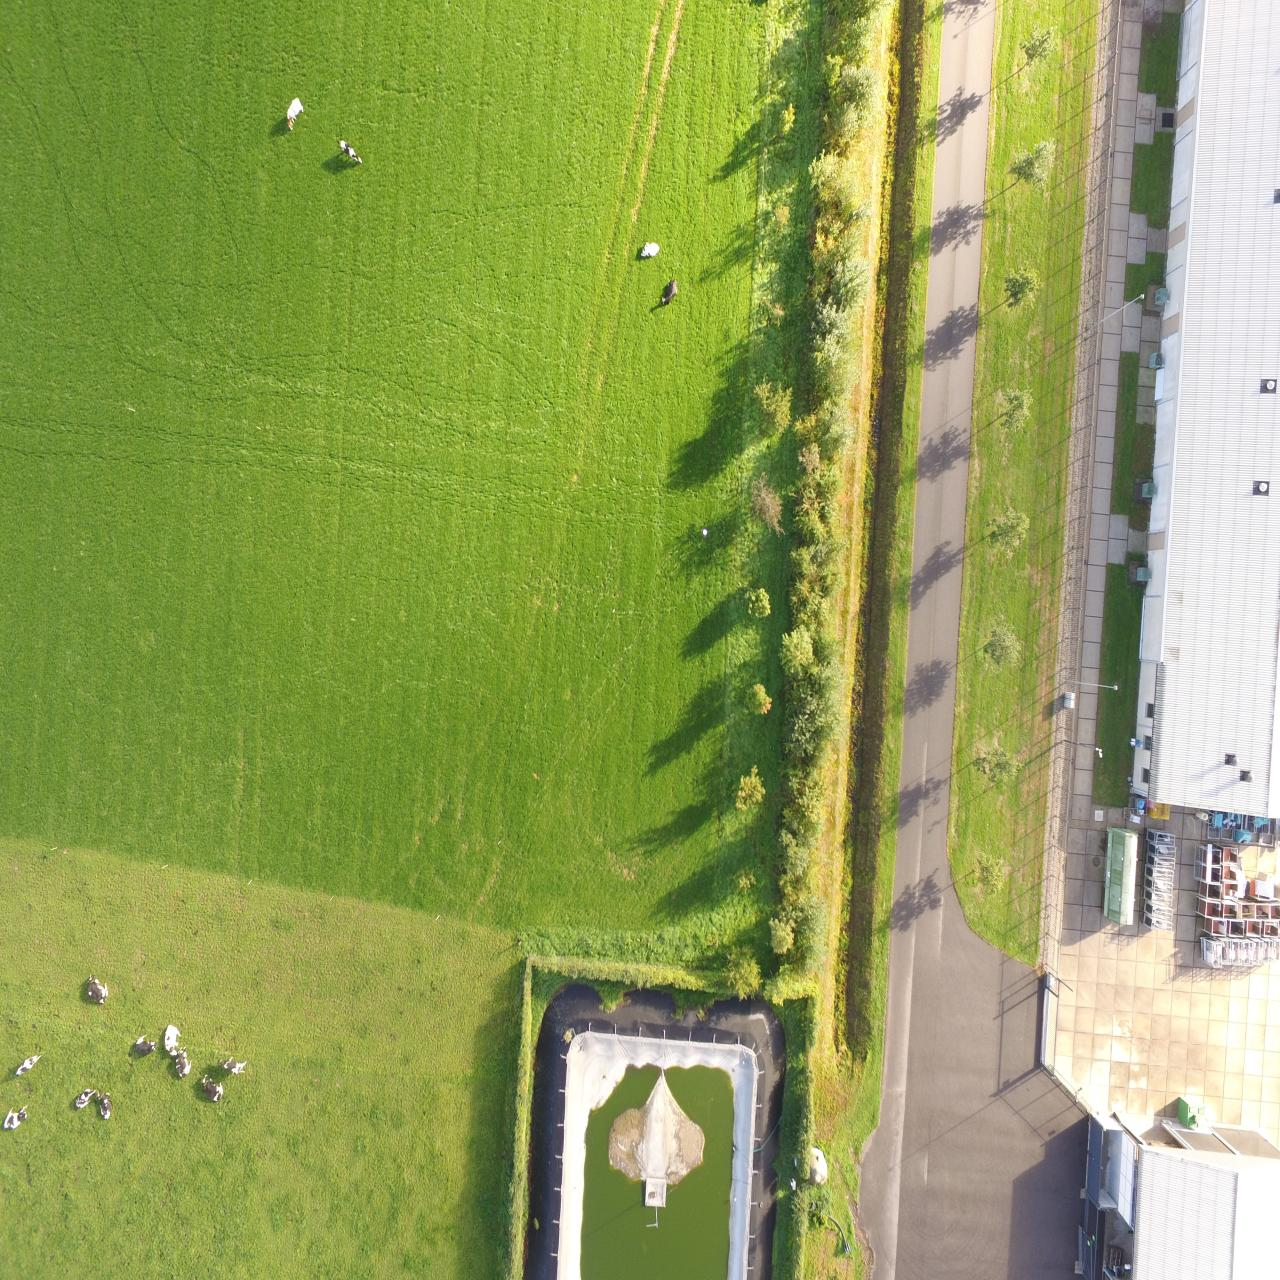cow: (82, 972, 109, 1009), (199, 1071, 230, 1103), (1, 1102, 30, 1132), (336, 137, 363, 165), (96, 1085, 116, 1123), (18, 1048, 42, 1076), (282, 97, 304, 129), (159, 1021, 179, 1053), (172, 1049, 192, 1078), (72, 1087, 96, 1110), (659, 275, 675, 308), (217, 1056, 246, 1074), (132, 1035, 156, 1056), (638, 241, 661, 260)
